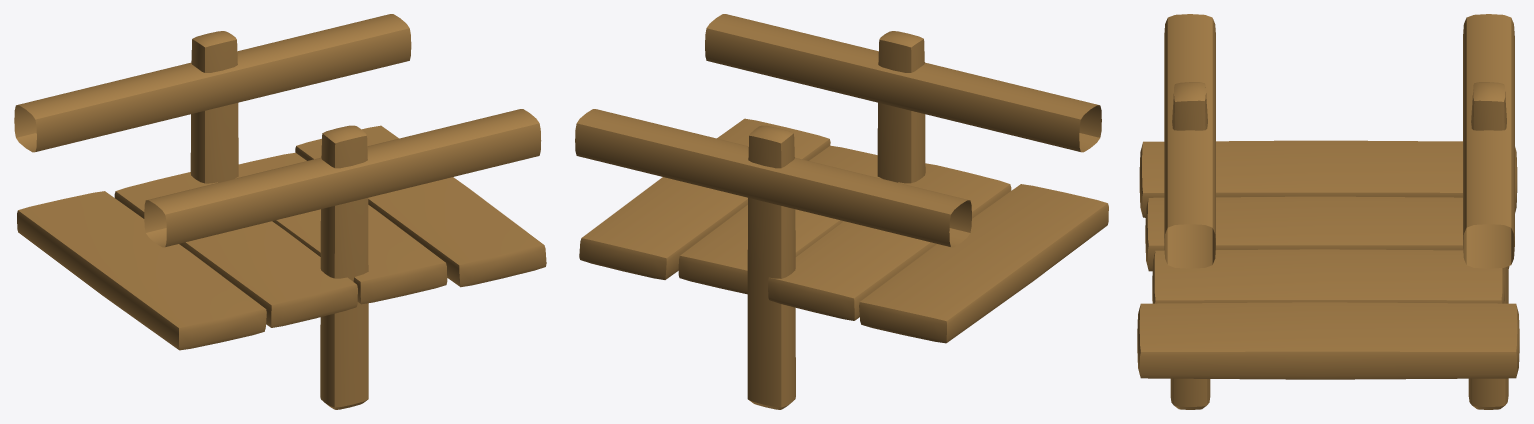
Rendered from Bridge_Modular_Center.glb.
3 renders of one model, left to right at view 1: azimuth 30°, elevation 25°; view 2: azimuth 150°, elevation 25°; view 3: azimuth 270°, elevation 25°, orthographic. The views are drawn at different scales.
Visible parts, largest first — view 1: Bridge_Modular_Center; view 2: Bridge_Modular_Center; view 3: Bridge_Modular_Center.
Boxes of the visible parts, box(x1,y1,x2,y2) form: Bridge_Modular_Center: box(14, 14, 546, 409); Bridge_Modular_Center: box(575, 14, 1108, 409); Bridge_Modular_Center: box(1137, 14, 1519, 409).
Bounding box in the file's own units: 3 × 2.09 × 2.31.
